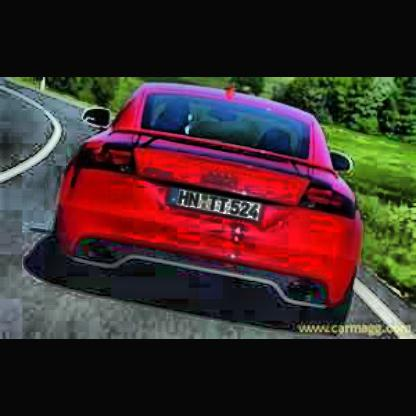Audi TT RS Coupe 2012: (56, 85, 366, 326)
